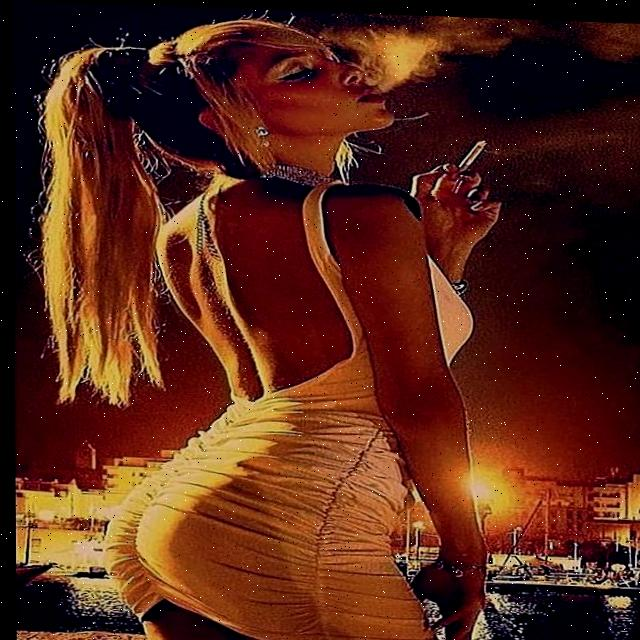cigarette: (458, 135, 486, 171)
